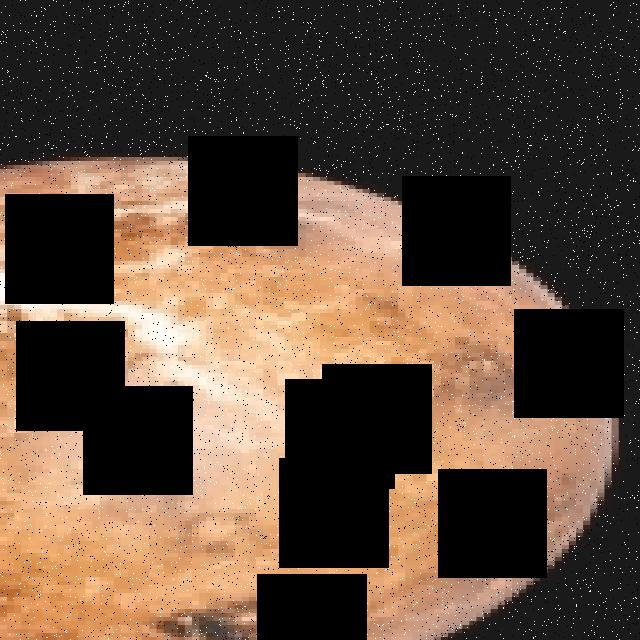Venus: (0, 156, 626, 640)
